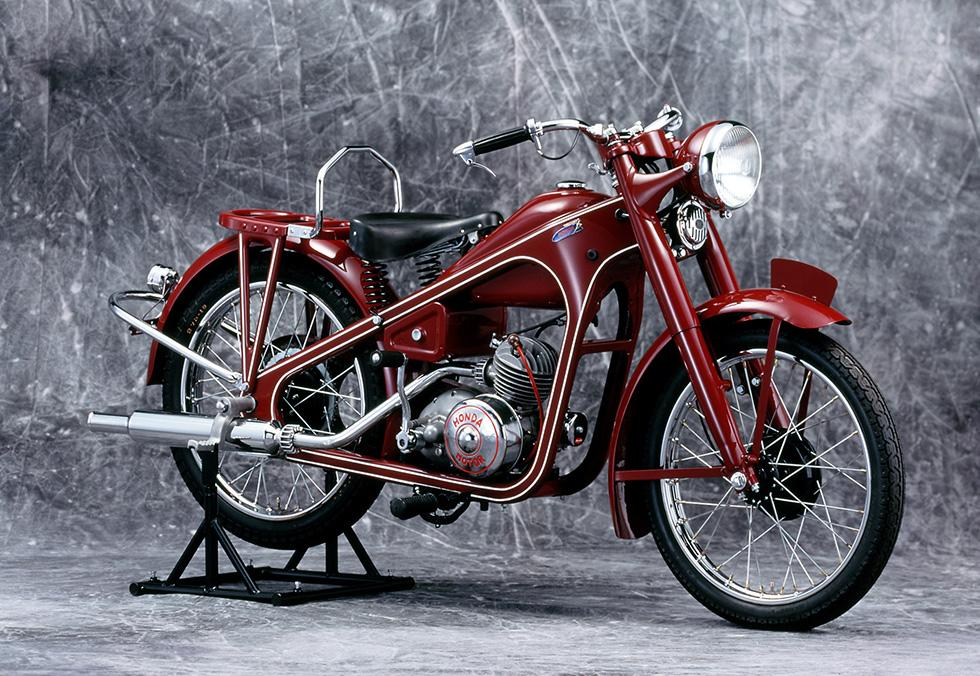motorcycle: (84, 92, 924, 651)
